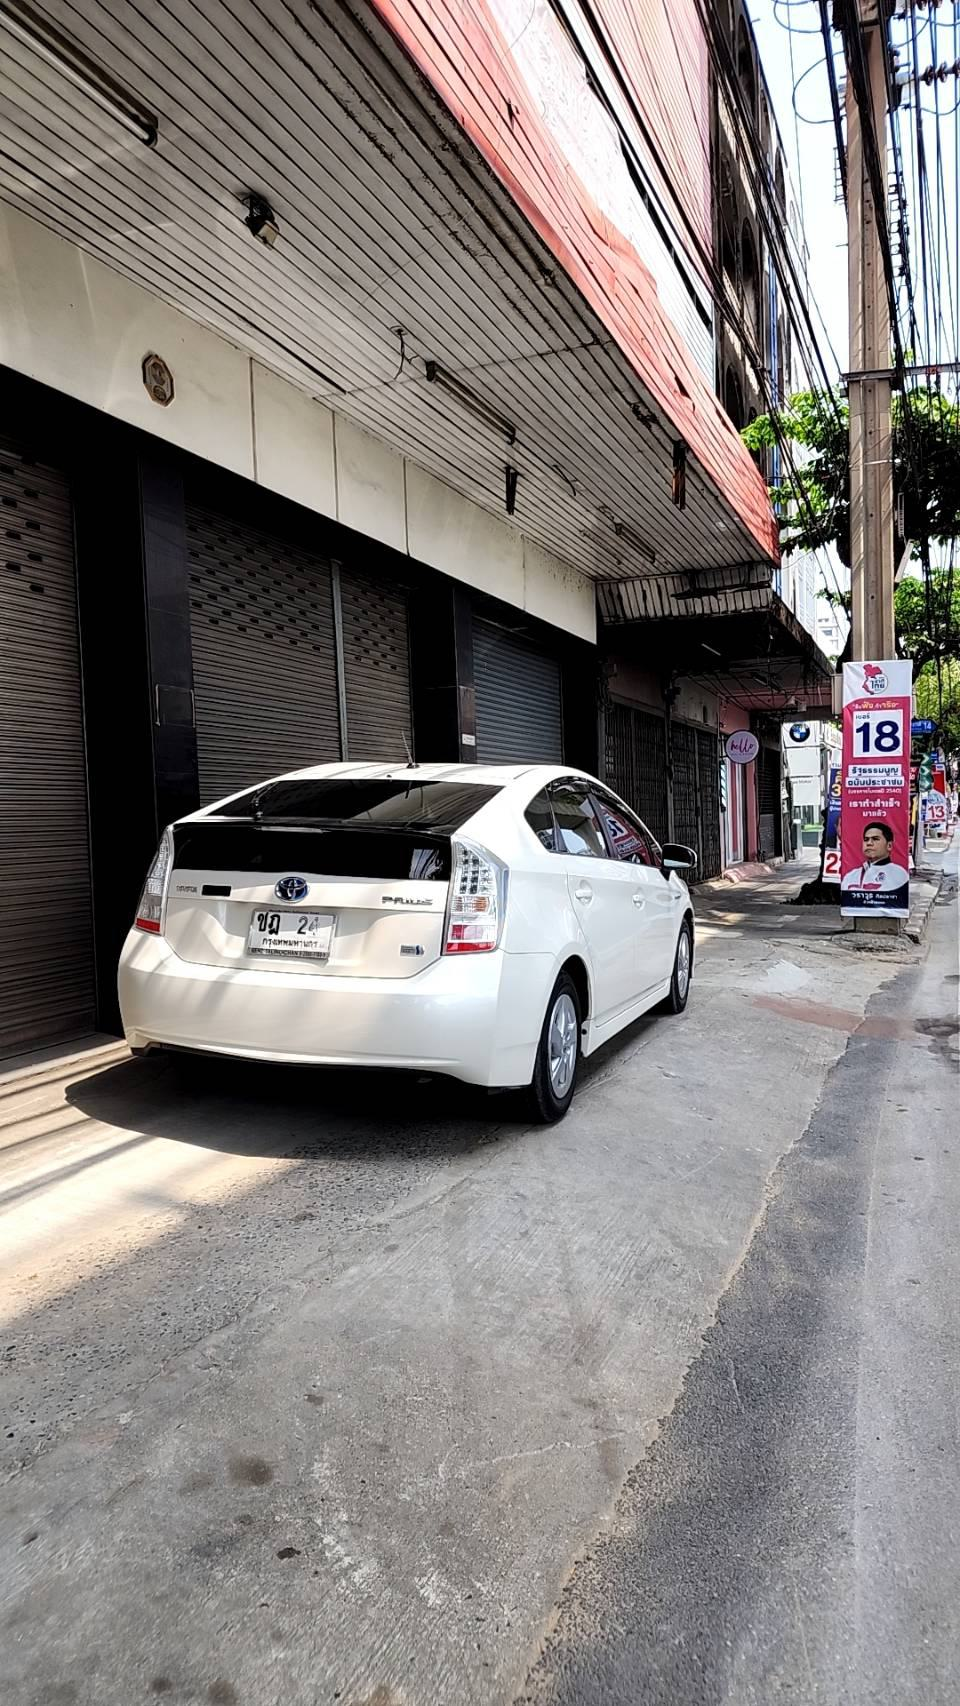Banner: (831, 649, 915, 917)
